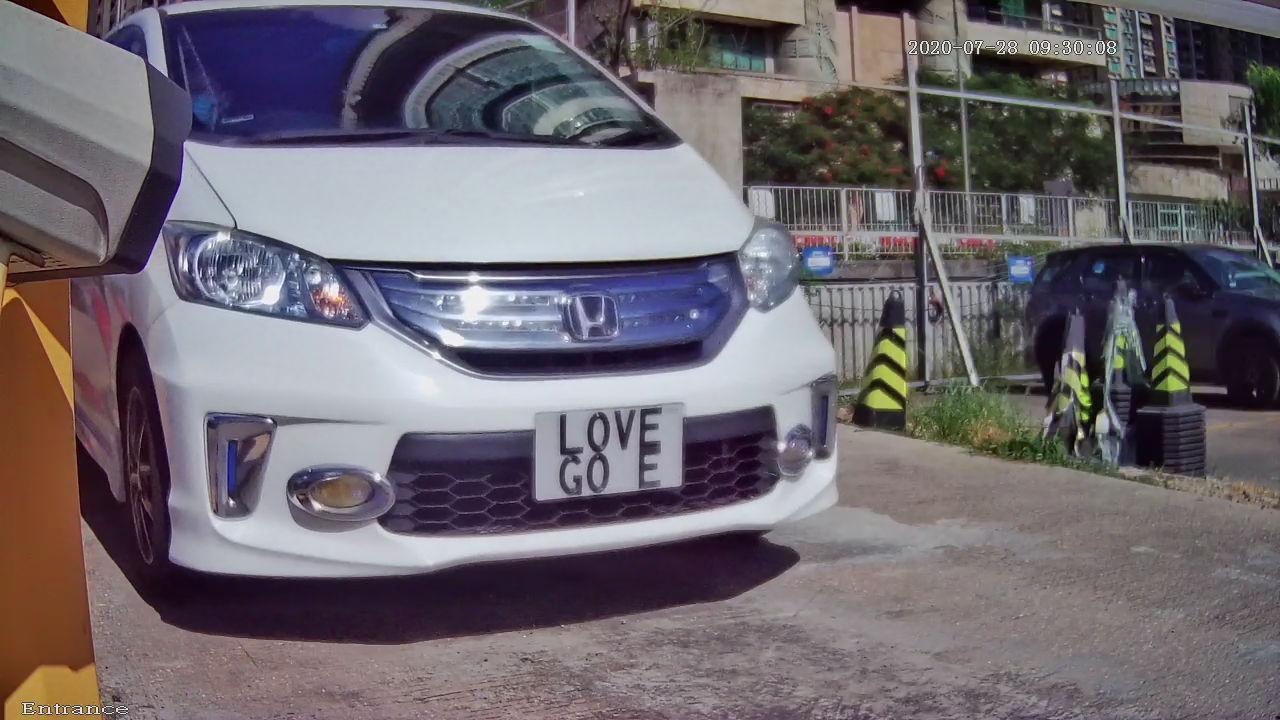privatecar: (44, 1, 874, 631)
